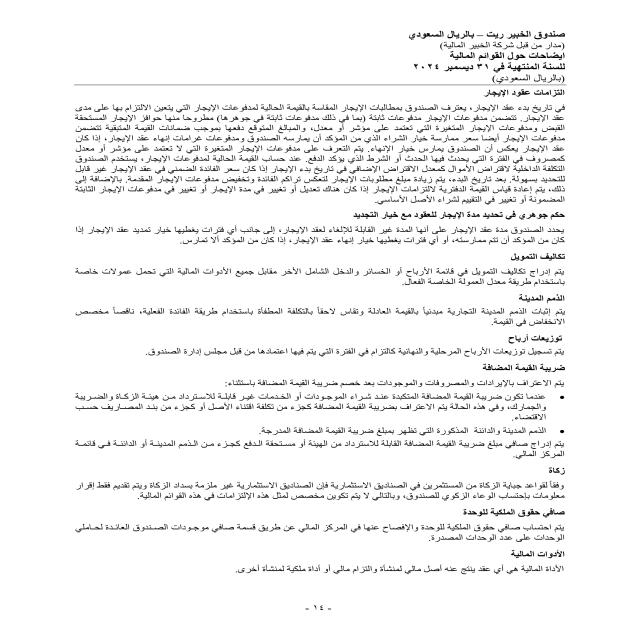notes: (447, 51, 568, 60)
text: (25, 96, 571, 582)
